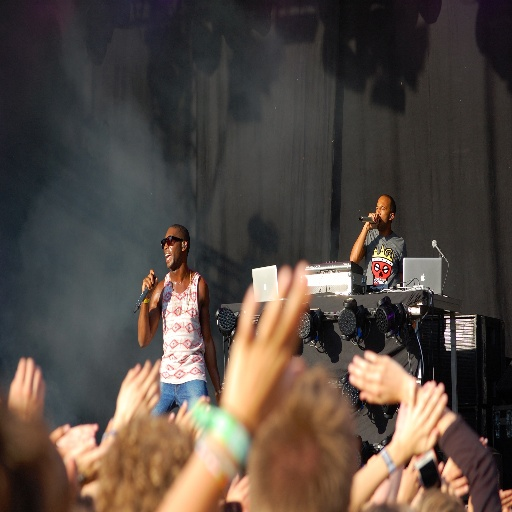hand: (218, 260, 312, 432), (391, 376, 449, 450), (348, 347, 408, 406), (114, 355, 160, 421), (6, 356, 45, 426), (67, 435, 113, 479), (173, 395, 211, 439), (47, 418, 83, 454), (396, 454, 421, 504), (437, 460, 469, 499), (59, 422, 100, 445), (225, 470, 248, 510), (141, 267, 158, 296), (499, 485, 511, 508), (365, 211, 380, 228)
